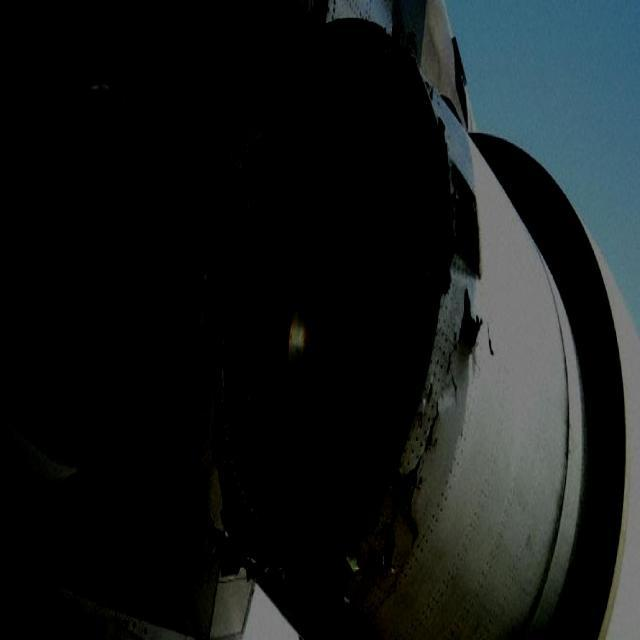crack: (460, 285, 505, 368)
